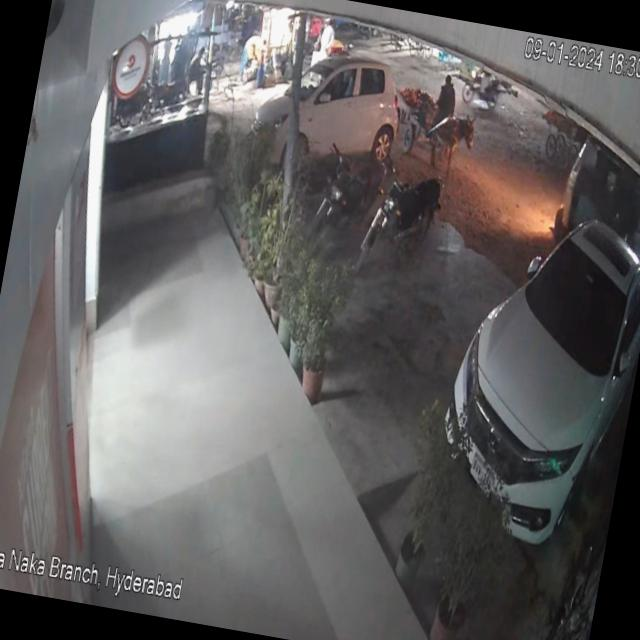Car: (423, 180, 640, 575), (244, 42, 425, 196)
Motorcycle: (356, 148, 452, 293), (298, 130, 391, 256)
